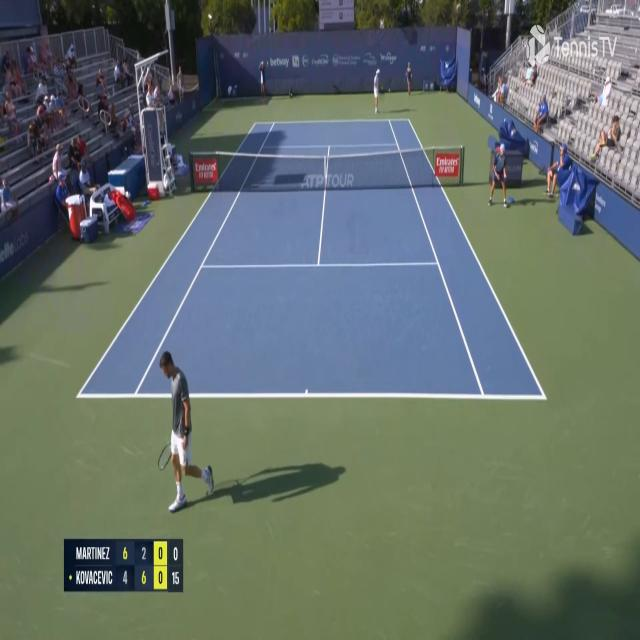tennis-player: (153, 347, 217, 515), (372, 66, 382, 114)
